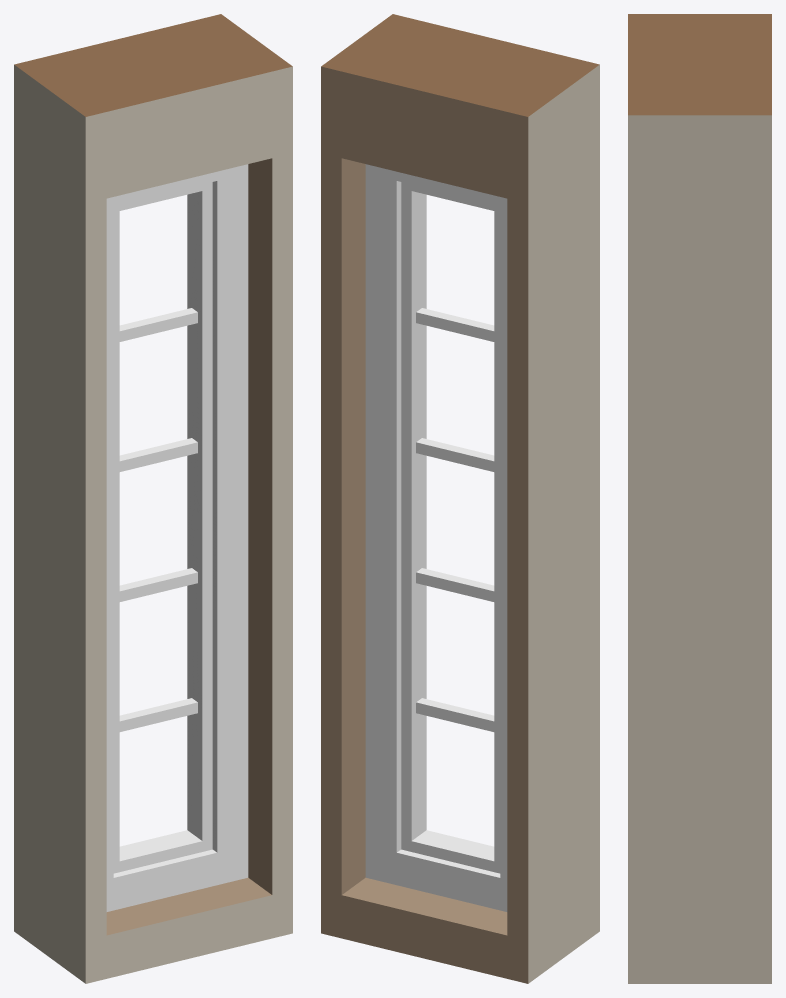
File: Exterior_Doorway_Sidelight.obj
3 views of the same model, side by side, from view 1: azimuth 30°, elevation 25°; view 2: azimuth 150°, elevation 25°; view 3: azimuth 270°, elevation 25° (orthographic).
Visible parts, largest first — view 1: object1; view 2: object1; view 3: object1.
Boxes of the visible parts, x1=… form: object1: x1=14, y1=14, x2=292, y2=983; object1: x1=321, y1=14, x2=599, y2=983; object1: x1=628, y1=14, x2=771, y2=983.
Size of the model in its own units: 0.5 by 2 by 0.3.
